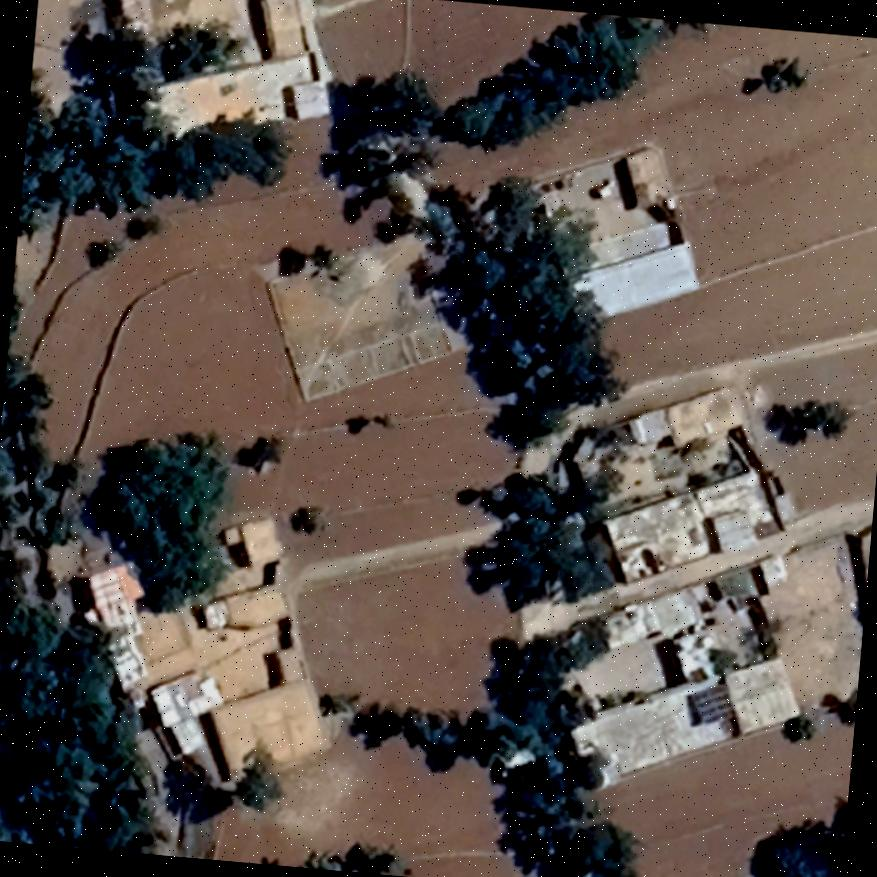Solarpanel: (680, 675, 740, 732)
